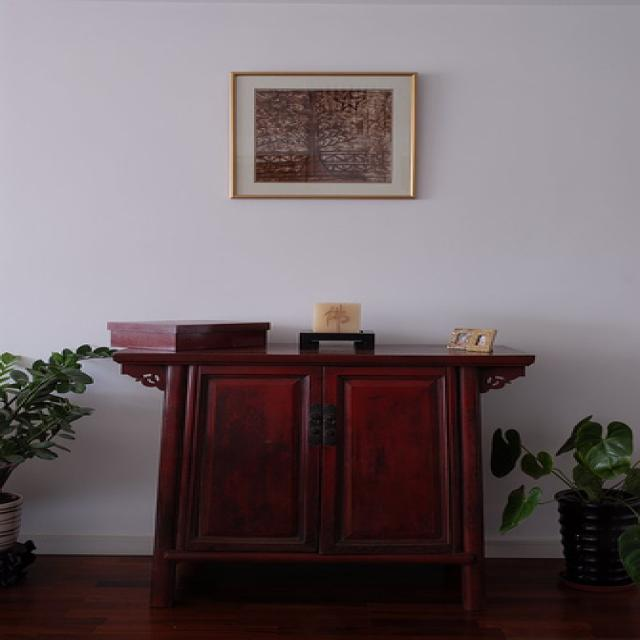pottedplant: (492, 415, 639, 589), (1, 345, 95, 567)
